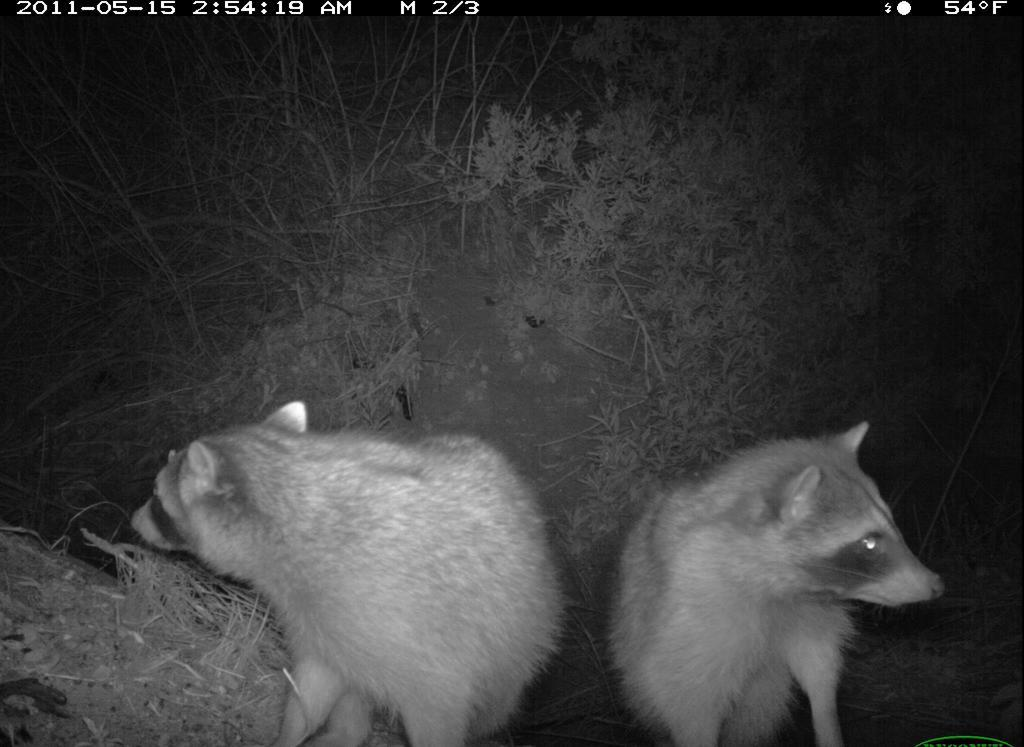raccoon: (129, 397, 574, 747), (609, 413, 950, 747)
